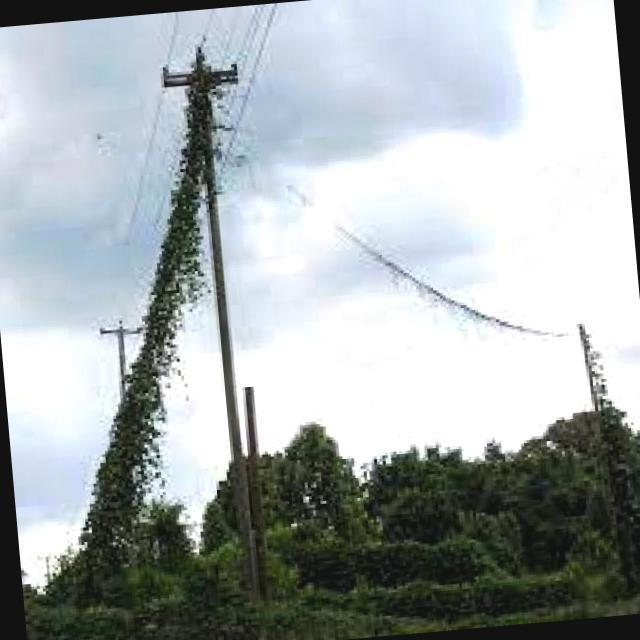critical vegetation: (144, 41, 281, 458), (114, 50, 238, 482)
